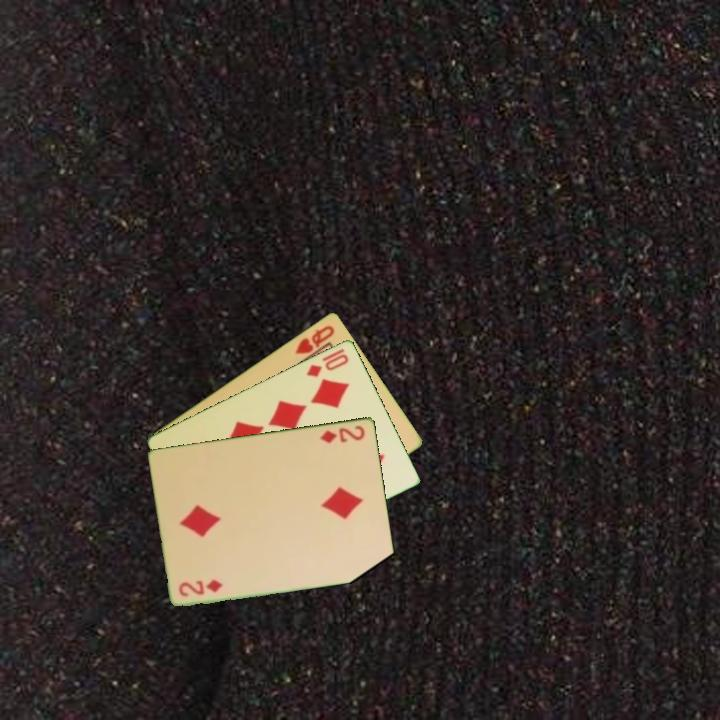10d: (303, 350, 352, 380)
2d: (317, 421, 368, 445), (176, 576, 226, 599)
Qh: (291, 321, 338, 357)
